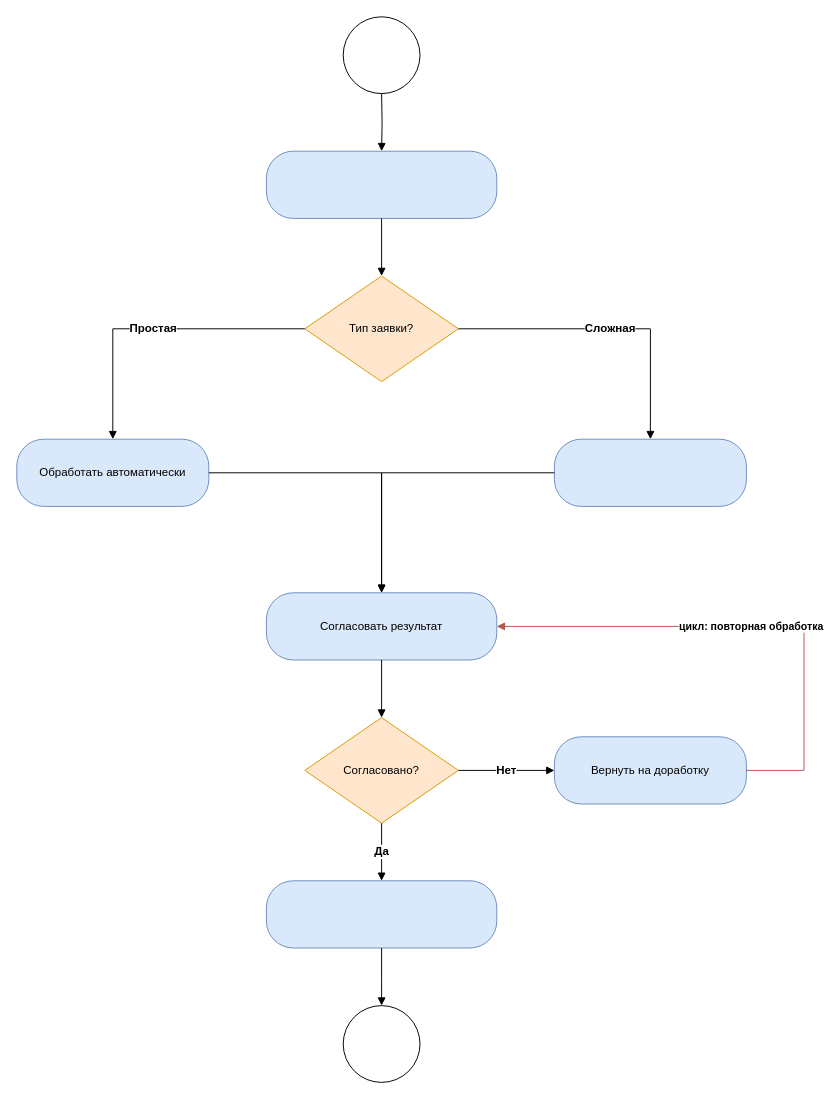
Image size: 840x1099. Some labels were removed from this diagram. Here are the shapes that lost their labels. From the top down, the centre of each, then its label:
At point 381,184: "Получить классифицированную заявку".
At point 649,472: "Передать специалисту на ручную обработку".
At point 381,914: "Зафиксировать результат".
